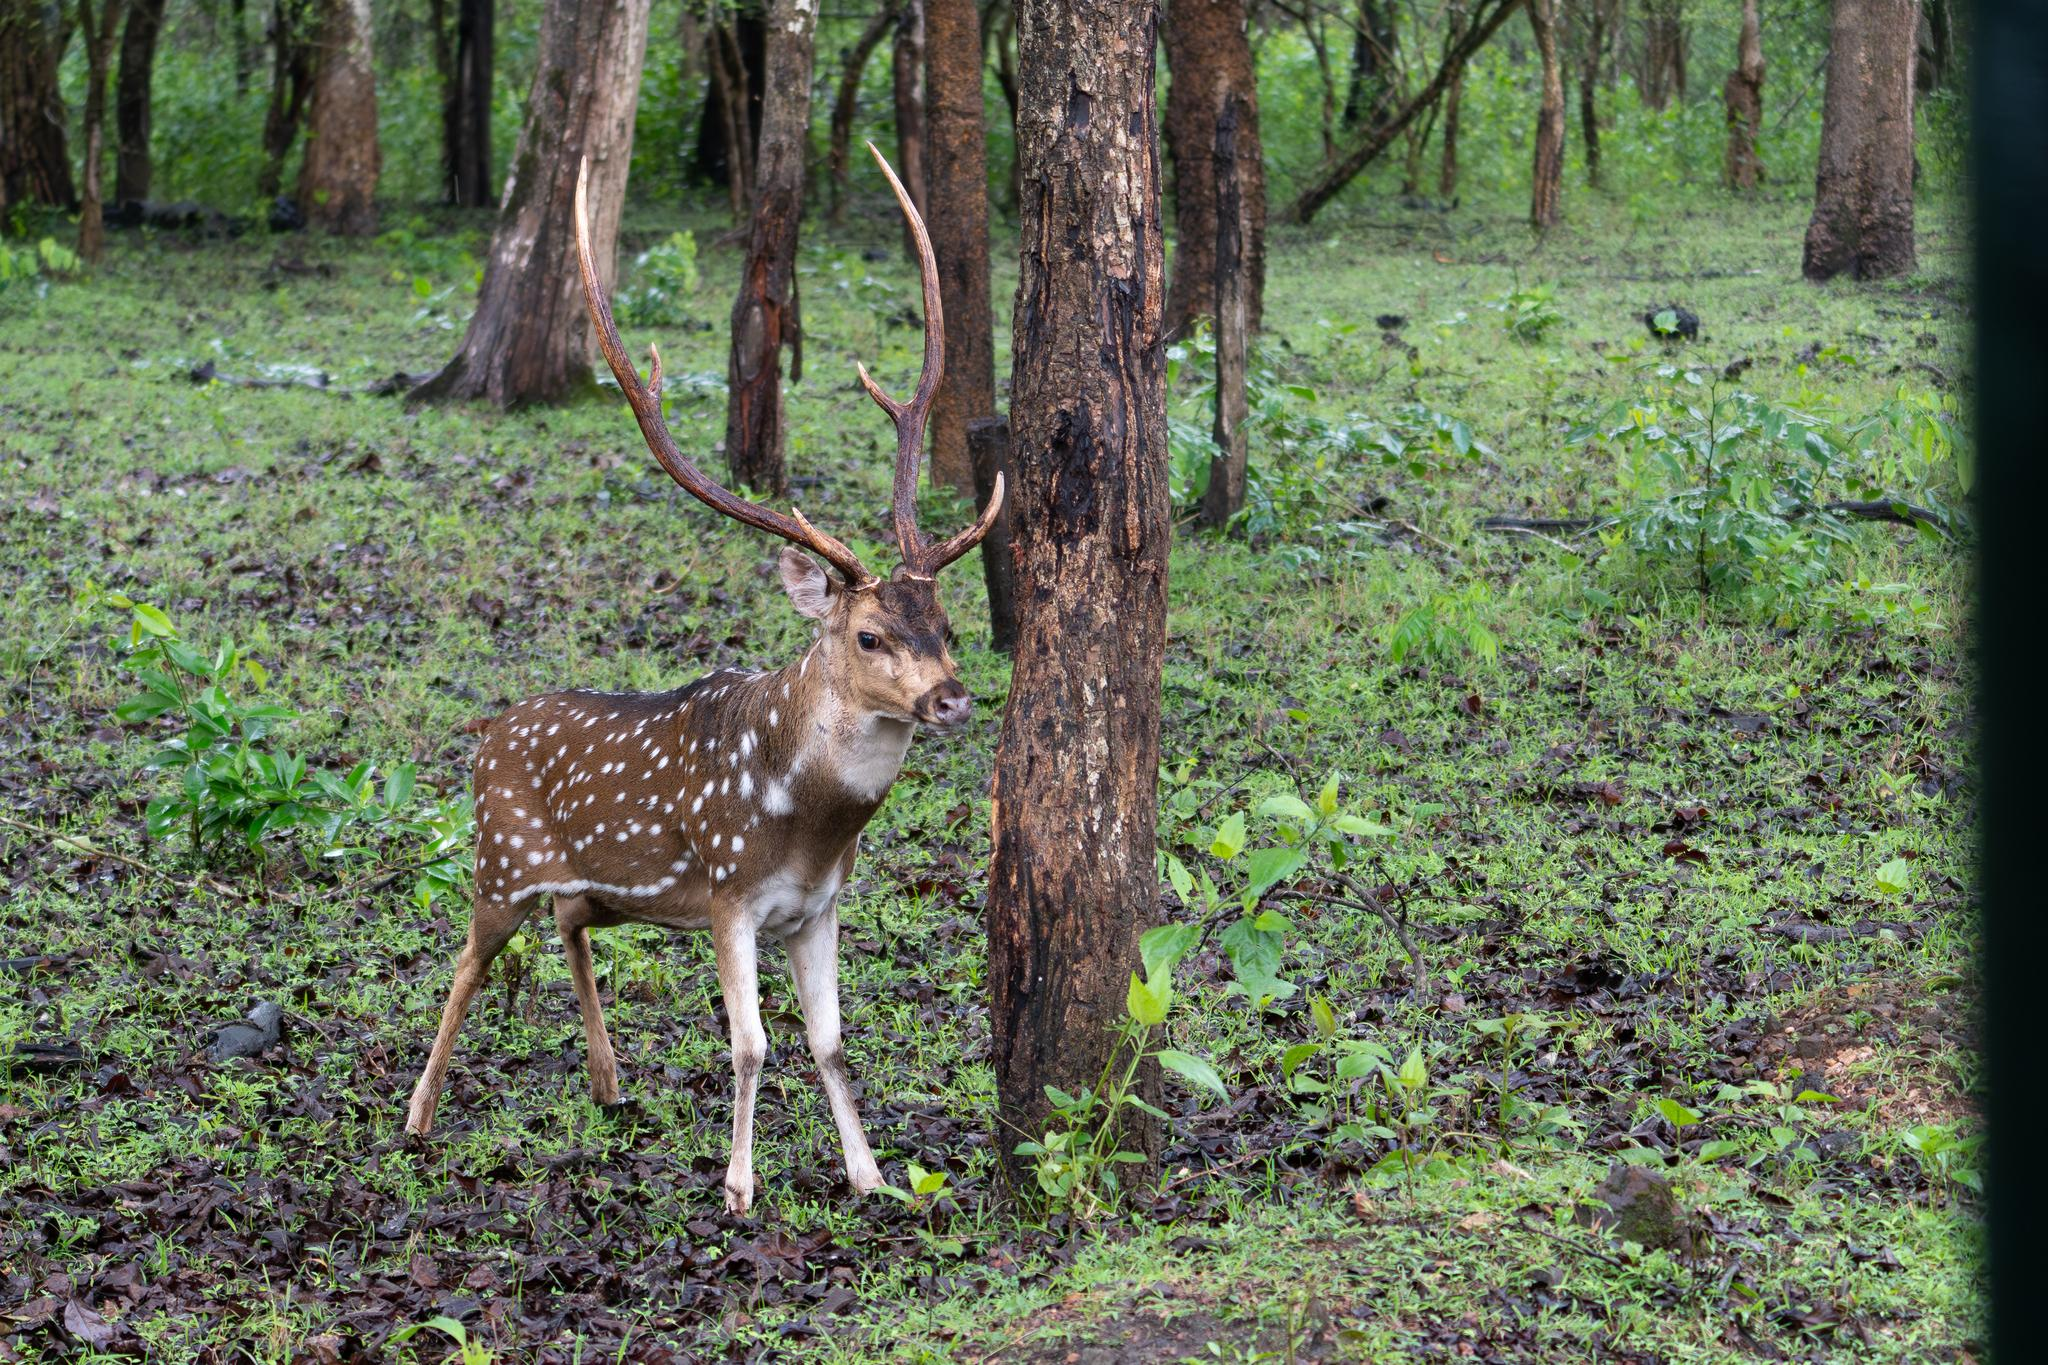Deer: (407, 158, 1005, 1211)
